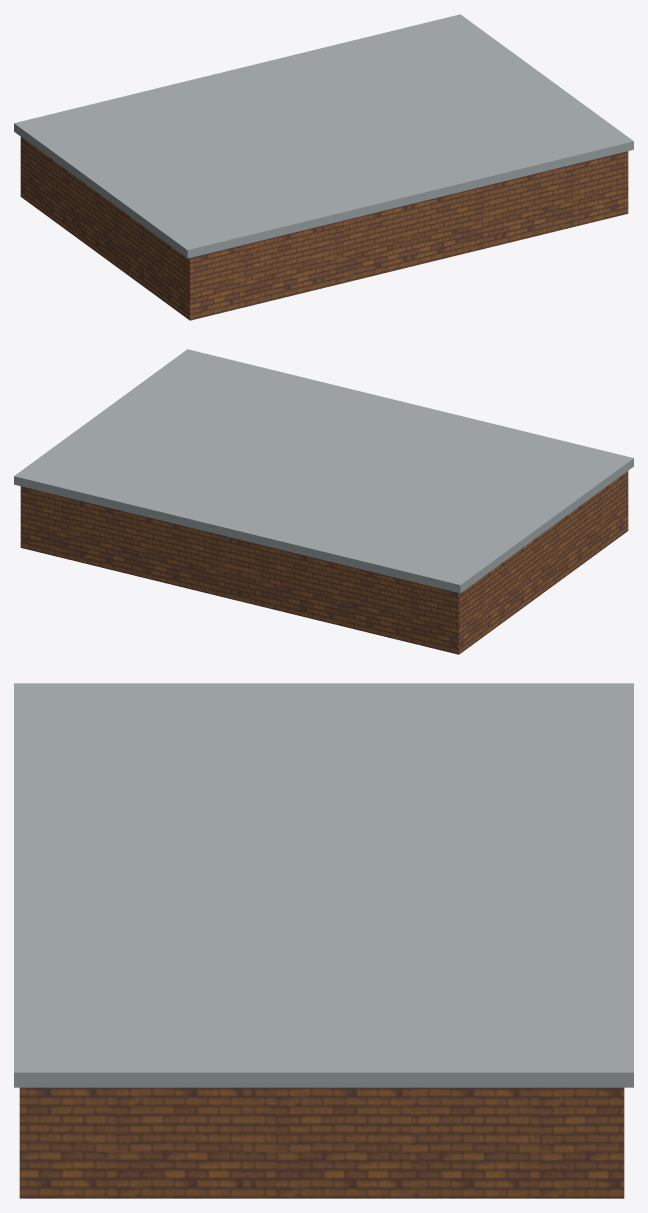
File: ModularHBasementBaseV1.fbx
3 renders of one model, top to bottom at view 1: azimuth 30°, elevation 25°; view 2: azimuth 150°, elevation 25°; view 3: azimuth 270°, elevation 25°, orthographic. The views are drawn at different scales.
Visible parts, largest first — view 1: HBasementBase_v3_1; view 2: HBasementBase_v3_1; view 3: HBasementBase_v3_1.
Boxes of the visible parts, x1,y1,x2,y2 form: HBasementBase_v3_1: (14,14,633,320); HBasementBase_v3_1: (14,349,633,654); HBasementBase_v3_1: (14,683,633,1198).
Size of the model in its own units: 54.65 by 8.49 by 36.79.
